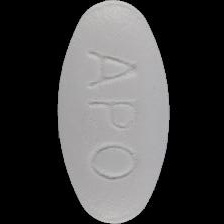68084-097: (0, 0, 224, 224)
